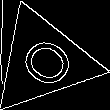O_SE: (8, 28, 79, 93)
